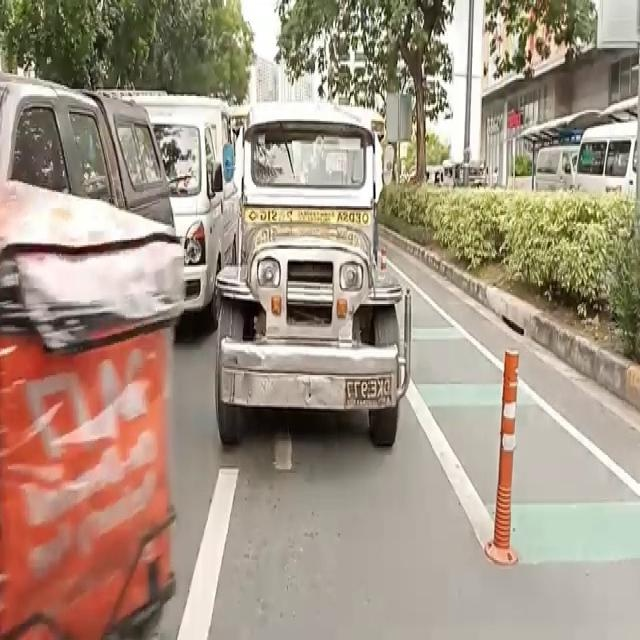car: (164, 115, 217, 329)
jeepney: (224, 113, 384, 446)
